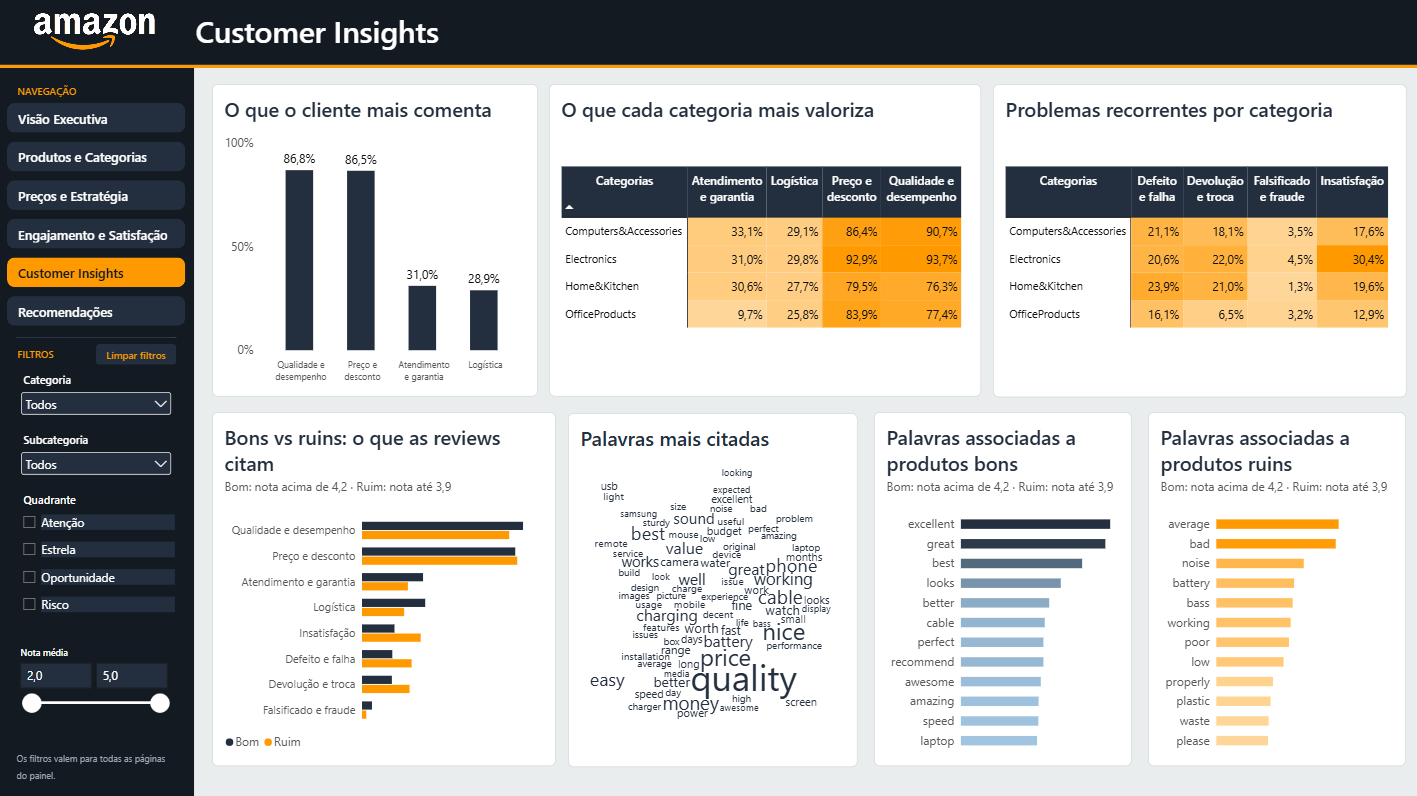

This screenshot's page, from the dashboard's own definition file:
{"tool":"powerbi","page":{"name":"Customer Insights","canvas":[1920,1080],"ordinal":4},"visuals":[{"type":"textbox","box":[0,0,1920,90],"z":0},{"type":"textbox","box":[0,94,264,986],"z":1000},{"type":"textbox","box":[0,90,1920,4],"z":2000},{"type":"pageNavigator","box":[12,142,240,300],"z":3000},{"type":"slicer","fields":{"Values":["dProdutos.categoria_nivel2"]},"box":[16,576,232,66],"z":4000},{"type":"slicer","fields":{"Values":["dProdutos.categoria_principal"]},"box":[16,496,232,66],"z":5000},{"type":"slicer","fields":{"Values":["dProdutos.rating"]},"box":[11.7,865.2,232,110],"z":6000},{"type":"slicer","fields":{"Values":["dProdutos.quadrante"]},"box":[16,656.5,232,188.2],"z":7000},{"type":"textbox","box":[24,112,216,24],"z":8000},{"type":"textbox","box":[24,456,216,1],"z":9000},{"type":"textbox","box":[24,466,216,24],"z":10000},{"type":"clusteredColumnChart","title":"O que o cliente mais comenta","fields":{"Category":["dTemas.tema"],"Y":["Medidas.% Produtos que mencionam"]},"box":[288.2,115.8,439,421.5],"z":11000},{"type":"pivotTable","title":"O que cada categoria mais valoriza","fields":{"Columns":["dTemas.tema"],"Rows":["dProdutos.categoria_principal"],"Values":["Medidas.% Produtos que mencionam"]},"box":[742,115.8,581.7,421.5],"z":12000},{"type":"pivotTable","title":"Problemas recorrentes por categoria","fields":{"Columns":["dTemas.tema"],"Rows":["dProdutos.categoria_principal"],"Values":["Medidas.% Produtos que mencionam"]},"box":[1339.4,116,556.6,421.7],"z":13000},{"type":"clusteredBarChart","title":"Bons vs ruins: o que as reviews citam","fields":{"Category":["dTemas.tema"],"Series":["dProdutos.grupo_nota"],"Y":["Medidas.% Produtos que mencionam"]},"box":[288.2,557.5,463.2,476.7],"z":14000},{"type":"WordCloud1447959067750","title":"Palavras mais citadas","fields":{"Category":["dPalavras.palavra"],"Values":["Medidas.Menções"]},"box":[767.6,558.9,390,477.1],"z":15000},{"type":"clusteredBarChart","title":"Palavras associadas a produtos bons","fields":{"Category":["dPalavras.palavra"],"Y":["Medidas.Mais em Bom (p.p.)"]},"box":[1179.6,557.5,347,477.1],"z":16000},{"type":"clusteredBarChart","title":"Palavras associadas a produtos ruins","fields":{"Category":["dPalavras.palavra"],"Y":["Medidas.Mais em Ruim (p.p.)"]},"box":[1548.6,557.5,347.4,477],"z":17000},{"type":"textbox","box":[23.3,1009.6,217.4,51.1],"z":18000},{"type":"image","box":[20.4,0,218.8,90.5],"z":19000},{"type":"actionButton","box":[132,466,108,28],"z":22000}]}

Visuals, with their boxes on the page's 1920x1080 design canvas (x1, y1, x2, y2). These are canvas units, not pixel positions in the 1417x796 screenshot, which may show the page scaled, cropped or inside an application window:
textbox: 0,0,1920,90
textbox: 0,94,264,1080
textbox: 0,90,1920,94
pageNavigator: 12,142,252,442
slicer - dProdutos.categoria_nivel2: 16,576,248,642
slicer - dProdutos.categoria_principal: 16,496,248,562
slicer - dProdutos.rating: 12,865,244,975
slicer - dProdutos.quadrante: 16,656,248,845
textbox: 24,112,240,136
textbox: 24,456,240,457
textbox: 24,466,240,490
"O que o cliente mais comenta" clusteredColumnChart: 288,116,727,537
"O que cada categoria mais valoriza" pivotTable: 742,116,1324,537
"Problemas recorrentes por categoria" pivotTable: 1339,116,1896,538
"Bons vs ruins: o que as reviews citam" clusteredBarChart: 288,558,751,1034
"Palavras mais citadas" WordCloud1447959067750: 768,559,1158,1036
"Palavras associadas a produtos bons" clusteredBarChart: 1180,558,1527,1035
"Palavras associadas a produtos ruins" clusteredBarChart: 1549,558,1896,1034
textbox: 23,1010,241,1061
image: 20,0,239,90
actionButton: 132,466,240,494
